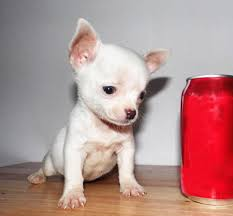chihuahua: (20, 10, 176, 206)
